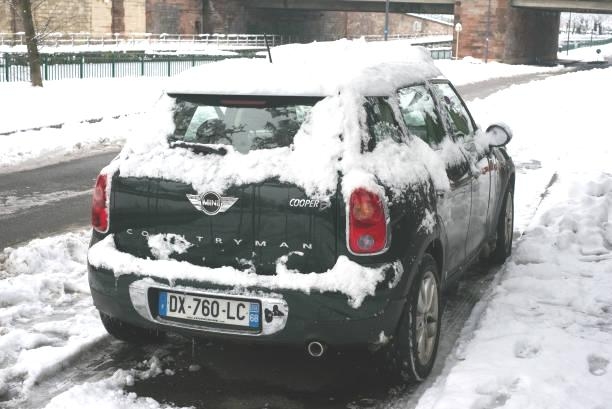mini: (180, 186, 246, 226)
